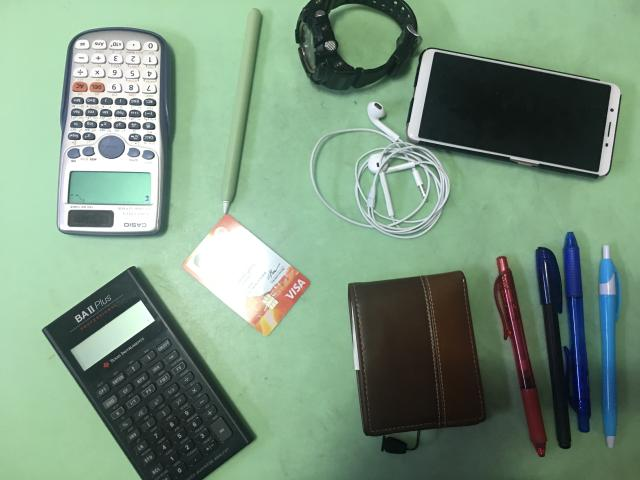Mobile phone: (406, 49, 620, 178)
Pen: (494, 256, 546, 458), (536, 248, 571, 449), (564, 231, 591, 432), (599, 245, 621, 448)
Wallet: (349, 271, 485, 436)
Watch: (295, 0, 421, 89)
wire: (310, 101, 450, 239)
